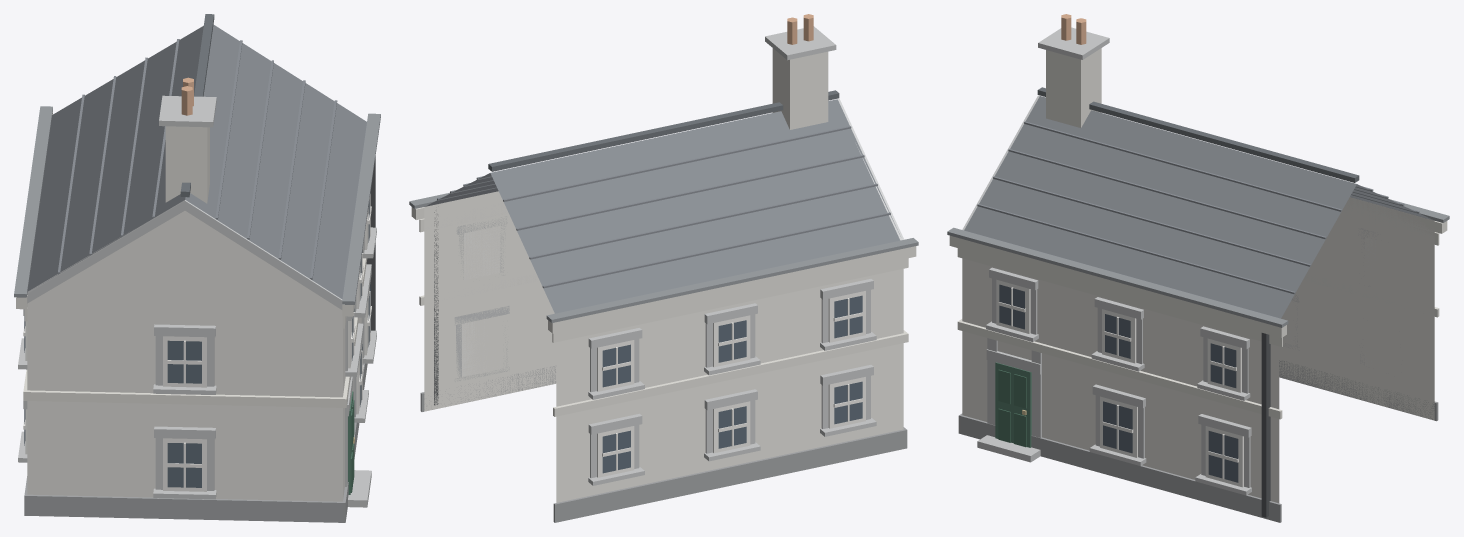
3 views of the same model, side by side, from view 1: azimuth 30°, elevation 25°; view 2: azimuth 150°, elevation 25°; view 3: azimuth 270°, elevation 25° (orthographic). The views are drawn at different scales.
Parts seen in each view (by area): view 1: harl, slate, stone_band, plinth, lead, slate_lt, string, frame, chim_render, window_glass_012, window_glass_013, slate_dk (+2 smaller); view 2: harl, slate, stone_band, string, frame, plinth, slate_lt, chim_render, lead, slate_dk, window_glass_010, window_glass_011 (+6 smaller); view 3: harl, slate, stone_band, string, plinth, frame, slate_lt, chim_render, lead, slate_dk, pipe, door_green_p (+7 smaller).
Boxes of the visible parts, x1,y1,x2,y2 form: harl: [27, 211, 361, 501]; slate: [27, 24, 366, 298]; stone_band: [18, 95, 376, 507]; plinth: [24, 363, 367, 522]; lead: [14, 106, 380, 304]; slate_lt: [57, 39, 337, 279]; string: [16, 112, 367, 407]; frame: [23, 194, 371, 491]; chim_render: [165, 126, 209, 203]; window_glass_012: [167, 443, 201, 487]; window_glass_013: [167, 340, 201, 383]; slate_dk: [180, 14, 214, 197]; harl: [424, 191, 903, 502]; slate: [425, 99, 900, 313]; stone_band: [454, 26, 903, 485]; string: [411, 204, 916, 416]; frame: [462, 226, 865, 477]; plinth: [420, 366, 907, 522]; slate_lt: [437, 126, 890, 288]; chim_render: [772, 48, 828, 129]; lead: [409, 192, 918, 322]; slate_dk: [488, 90, 839, 171]; window_glass_010: [834, 381, 862, 424]; window_glass_011: [834, 295, 862, 338]; harl: [962, 197, 1434, 503]; slate: [964, 96, 1433, 318]; stone_band: [962, 27, 1378, 495]; string: [949, 198, 1447, 419]; plinth: [958, 360, 1438, 522]; frame: [996, 237, 1375, 487]; slate_lt: [977, 121, 1419, 294]; chim_render: [1046, 48, 1101, 127]; lead: [947, 199, 1449, 327]; slate_dk: [1037, 87, 1359, 182]; pipe: [1261, 333, 1270, 517]; door_green_p: [998, 369, 1026, 447].
Bounding box in the file's own units: 10.84 × 9.35 × 11.39.
